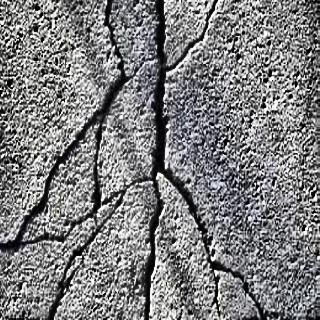alligator-crack: (16, 1, 293, 320)
